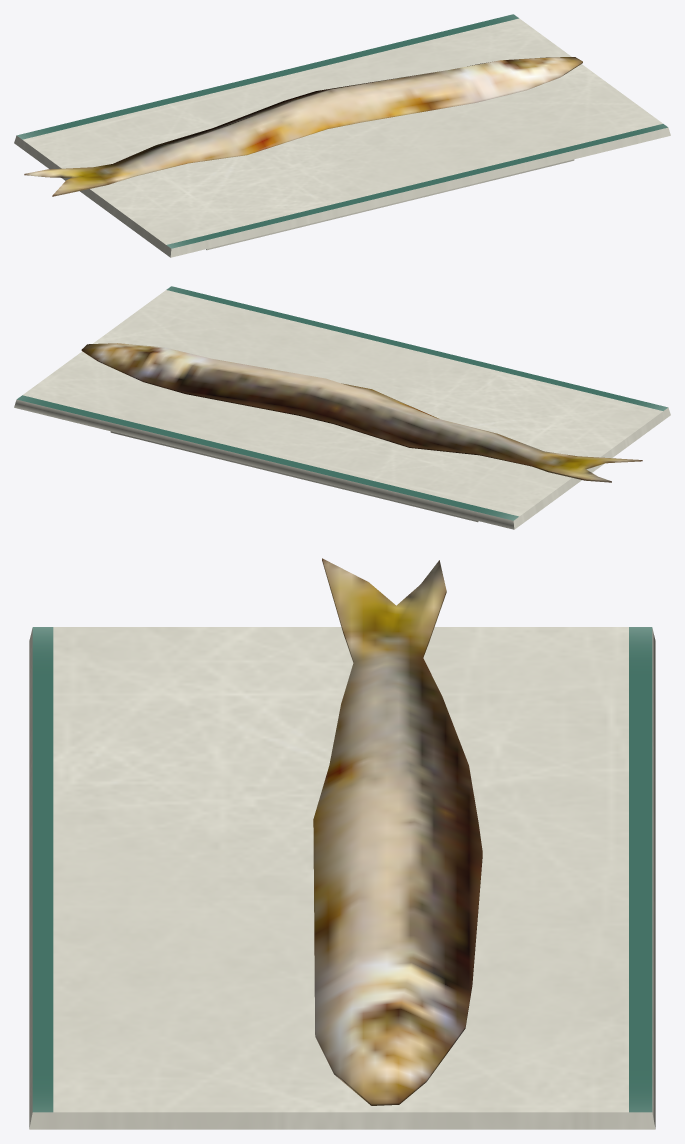
File: dinerfoods11a.fbx
3 views of the same model, one above another, from view 1: azimuth 30°, elevation 25°; view 2: azimuth 150°, elevation 25°; view 3: azimuth 270°, elevation 25° (orthographic). The views are drawn at different scales.
Parts seen in each view (by area): view 1: dinerfoods11a; view 2: dinerfoods11a; view 3: dinerfoods11a.
Boxes of the visible parts, x1,y1,x2,y2 form: dinerfoods11a: [14, 14, 670, 257]; dinerfoods11a: [14, 286, 670, 529]; dinerfoods11a: [29, 558, 655, 1129].
Size of the model in its own units: 34.88 by 4 by 17.35.
